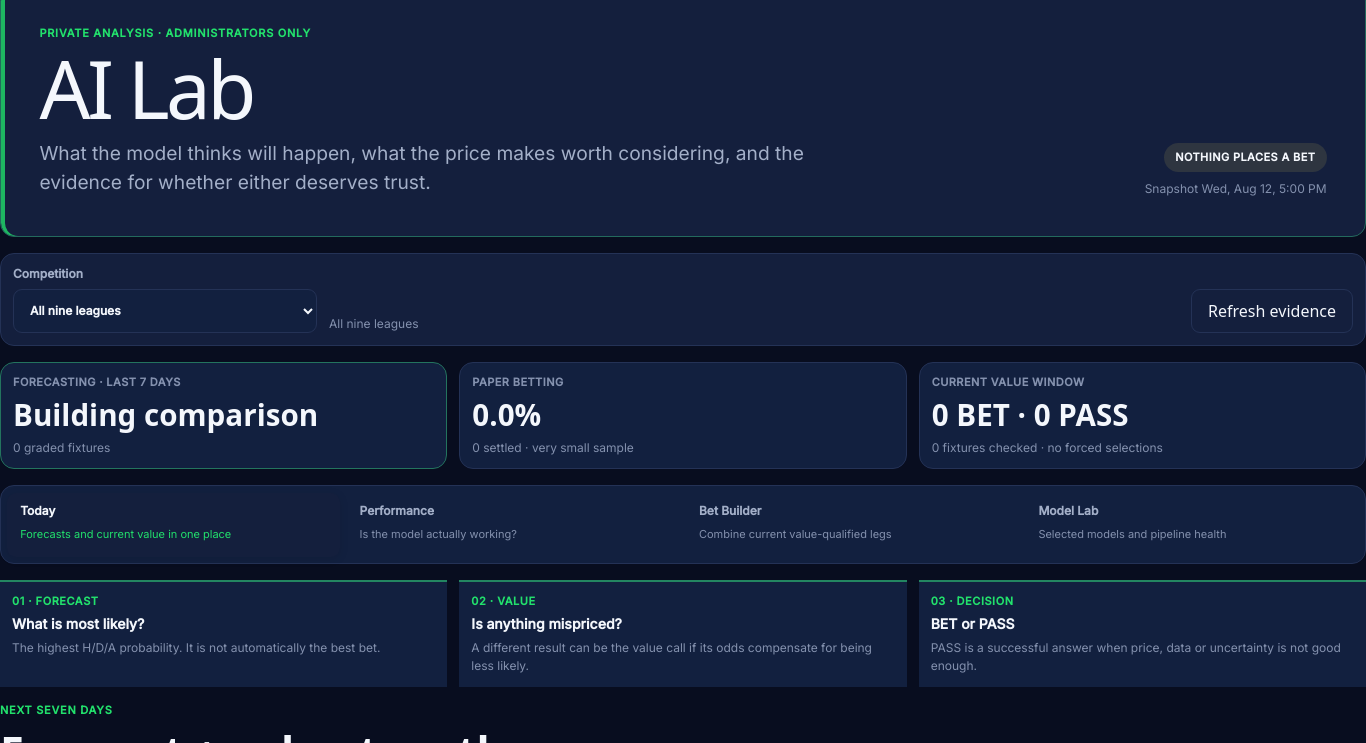
it: AI Lab page › filters every read by competition and keeps the four user jobs explicit
Select "Scottish League Two" in the dropdown labelled "Competition": (165, 311) [13,289,317,333]
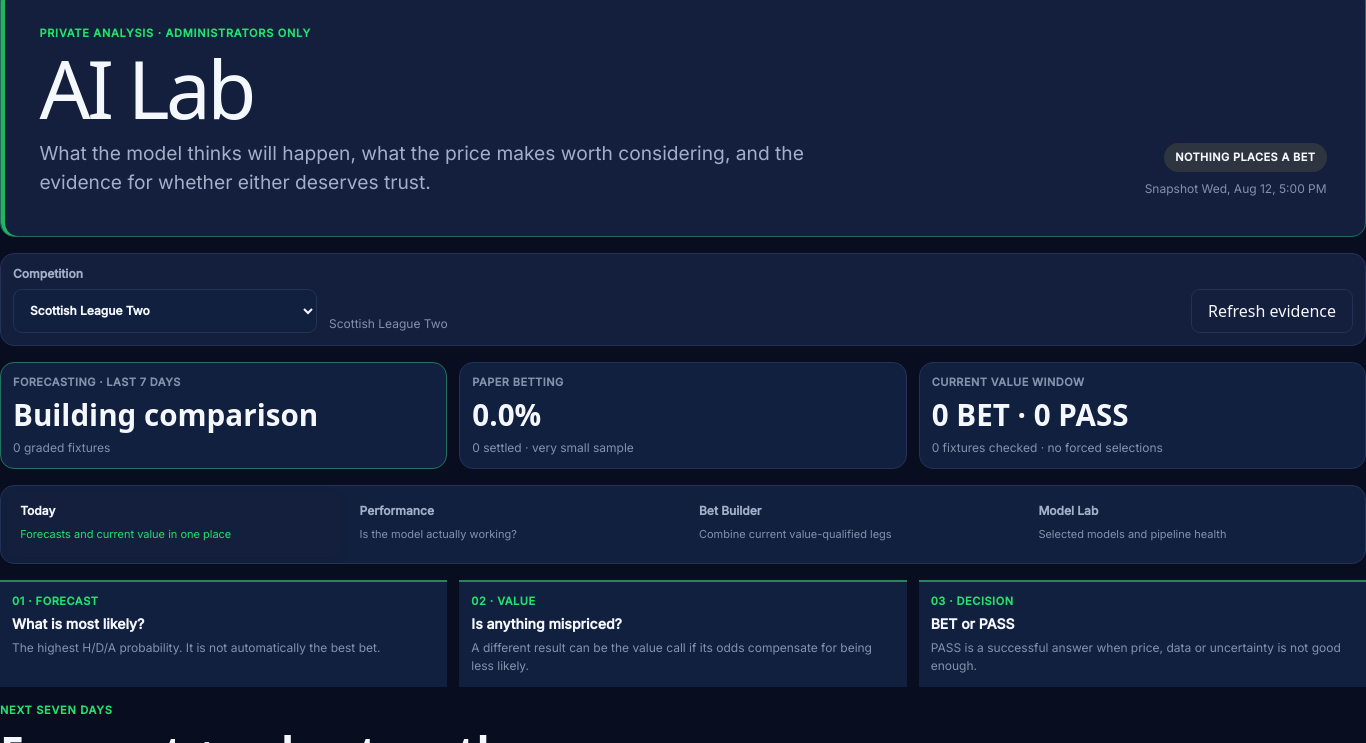
Expected: the button "Today Forecasts and current value in one place" is shown, [7,493,340,557]
Expected: the button "Bet Builder Combine current value-qualified legs" is shown, [686,493,1019,557]
Click the button "Performance Is the model actually working?": (513, 525) [347,493,680,557]
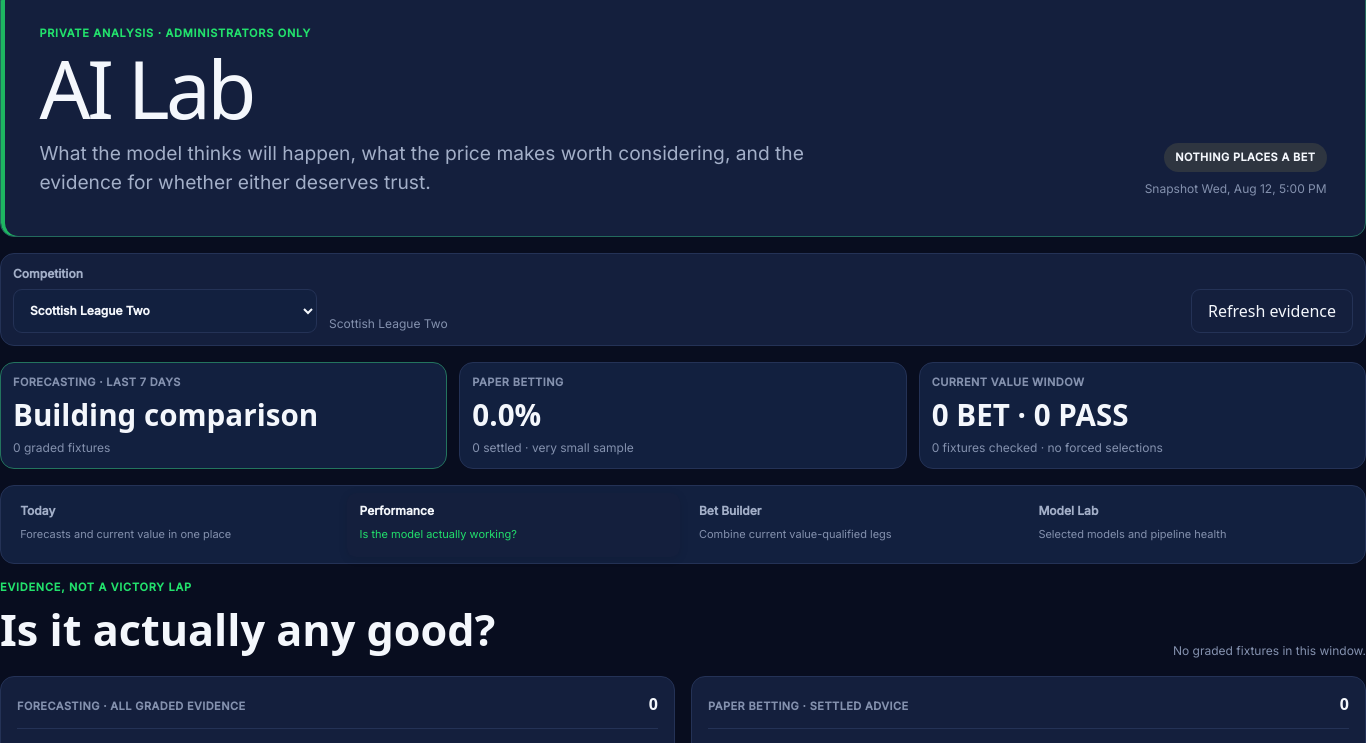
Expected: the heading "Is it actually any good?" is shown, [0,600,495,660]
Click the button "Model Lab Selected models and pipeline health": (1192, 525) [1026,493,1359,557]
(page scrolled)
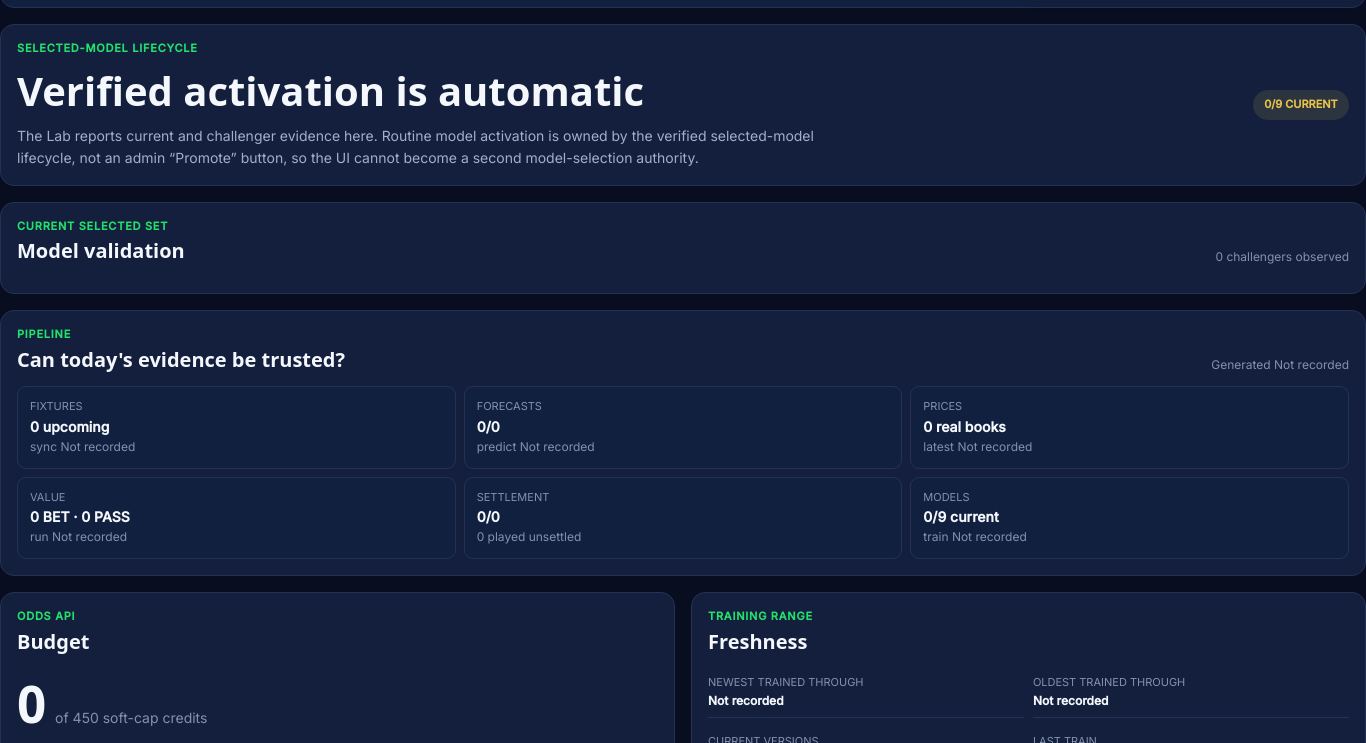
Expected: the heading "Can today's evidence be trusted?" is shown, [17,346,345,374]
